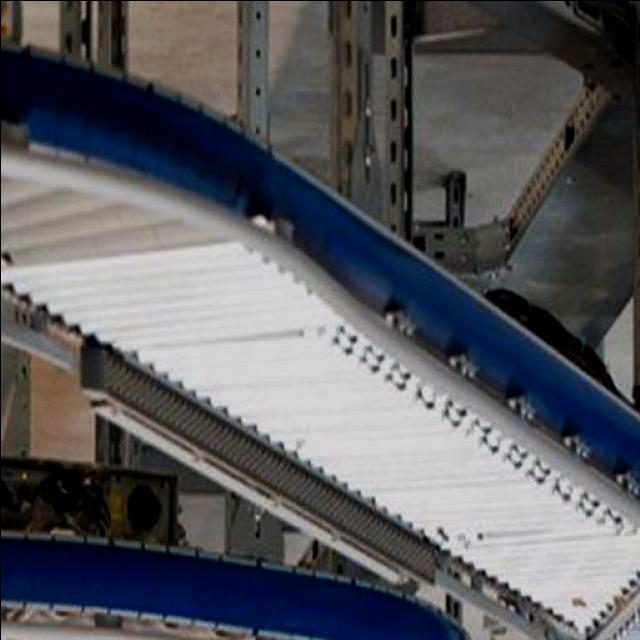conveyor: (0, 149, 640, 640)
